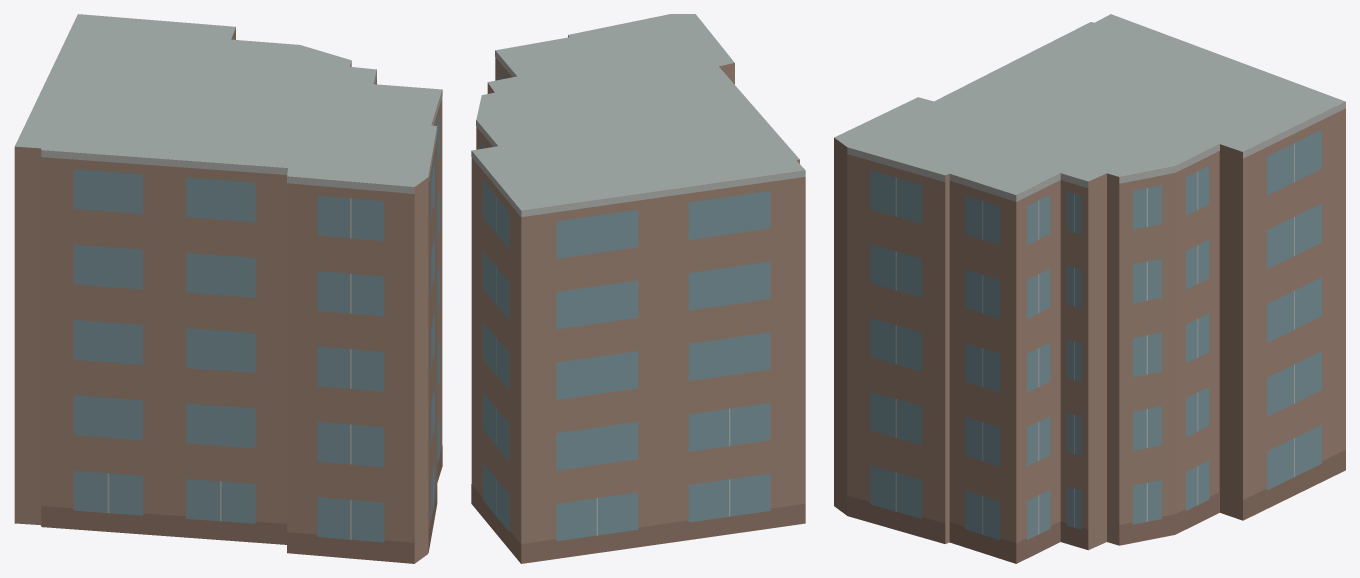
The model's file is survey-upis-32776026.glb.
3 views of the same model, side by side, from view 1: azimuth 30°, elevation 25°; view 2: azimuth 150°, elevation 25°; view 3: azimuth 270°, elevation 25° (orthographic). The views are drawn at different scales.
Visible parts, largest first — view 1: survey-upis-32776026.tmp; view 2: survey-upis-32776026.tmp; view 3: survey-upis-32776026.tmp.
Boxes of the visible parts, box(x1,y1,x2,y2) form: survey-upis-32776026.tmp: box(14, 14, 442, 563); survey-upis-32776026.tmp: box(471, 14, 805, 563); survey-upis-32776026.tmp: box(834, 14, 1345, 563).
Size of the model in its own units: 13.92 by 13.2 by 16.61.
